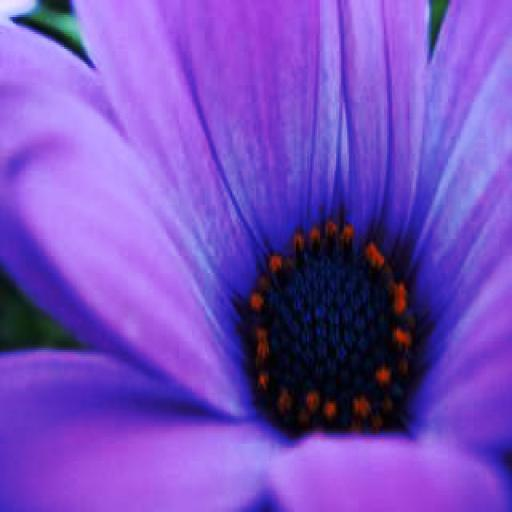daisy: (2, 0, 512, 456)
